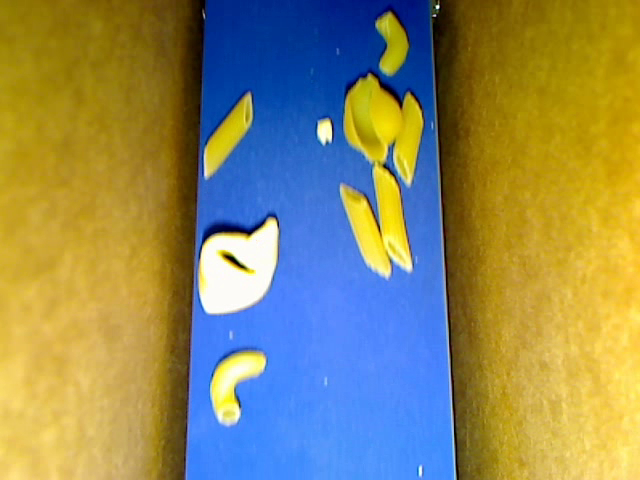elbow: (209, 350, 266, 426), (374, 13, 408, 75)
penne: (338, 181, 389, 281), (371, 160, 413, 273), (203, 92, 252, 182), (394, 90, 423, 188)
shell: (342, 75, 402, 165)
tortellini: (197, 217, 279, 315)
